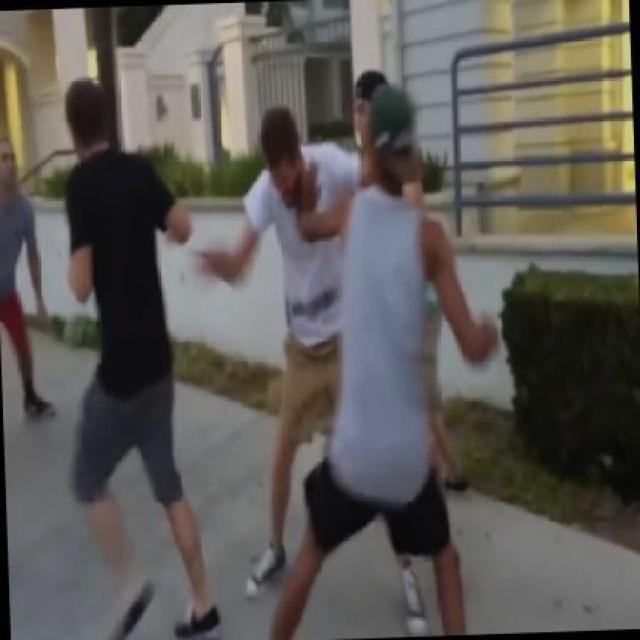fight: (188, 78, 511, 640)
non-fight: (45, 68, 225, 640), (0, 119, 71, 426)
